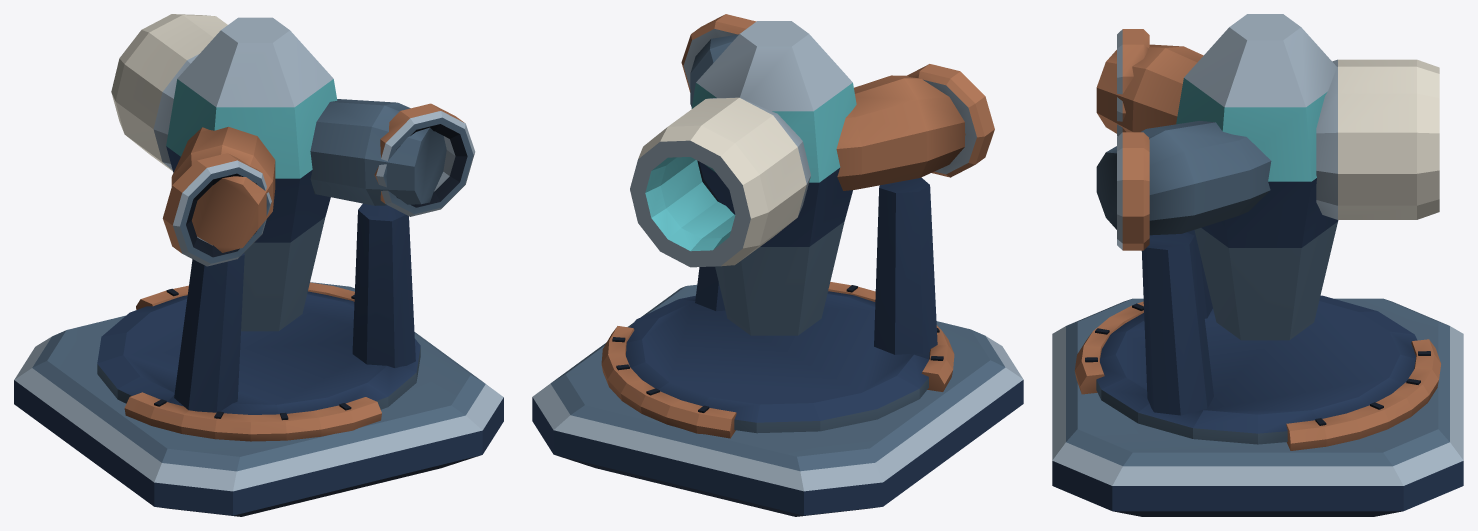
The model's file is logicGate.glb.
The picture shows the model from 3 angles, left to right: view 1: azimuth 30°, elevation 25°; view 2: azimuth 150°, elevation 25°; view 3: azimuth 270°, elevation 25°; orthographic projection. The views are drawn at different scales.
Visible parts, largest first — view 1: logicGate; view 2: logicGate; view 3: logicGate.
Part boxes in pixels (x1,y1,x2,y2): logicGate: (14, 14, 503, 516); logicGate: (532, 14, 1023, 516); logicGate: (1052, 14, 1463, 516).
Size of the model in its own units: 0.98 by 1.07 by 0.96.
